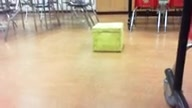cube: (93, 23, 123, 52)
